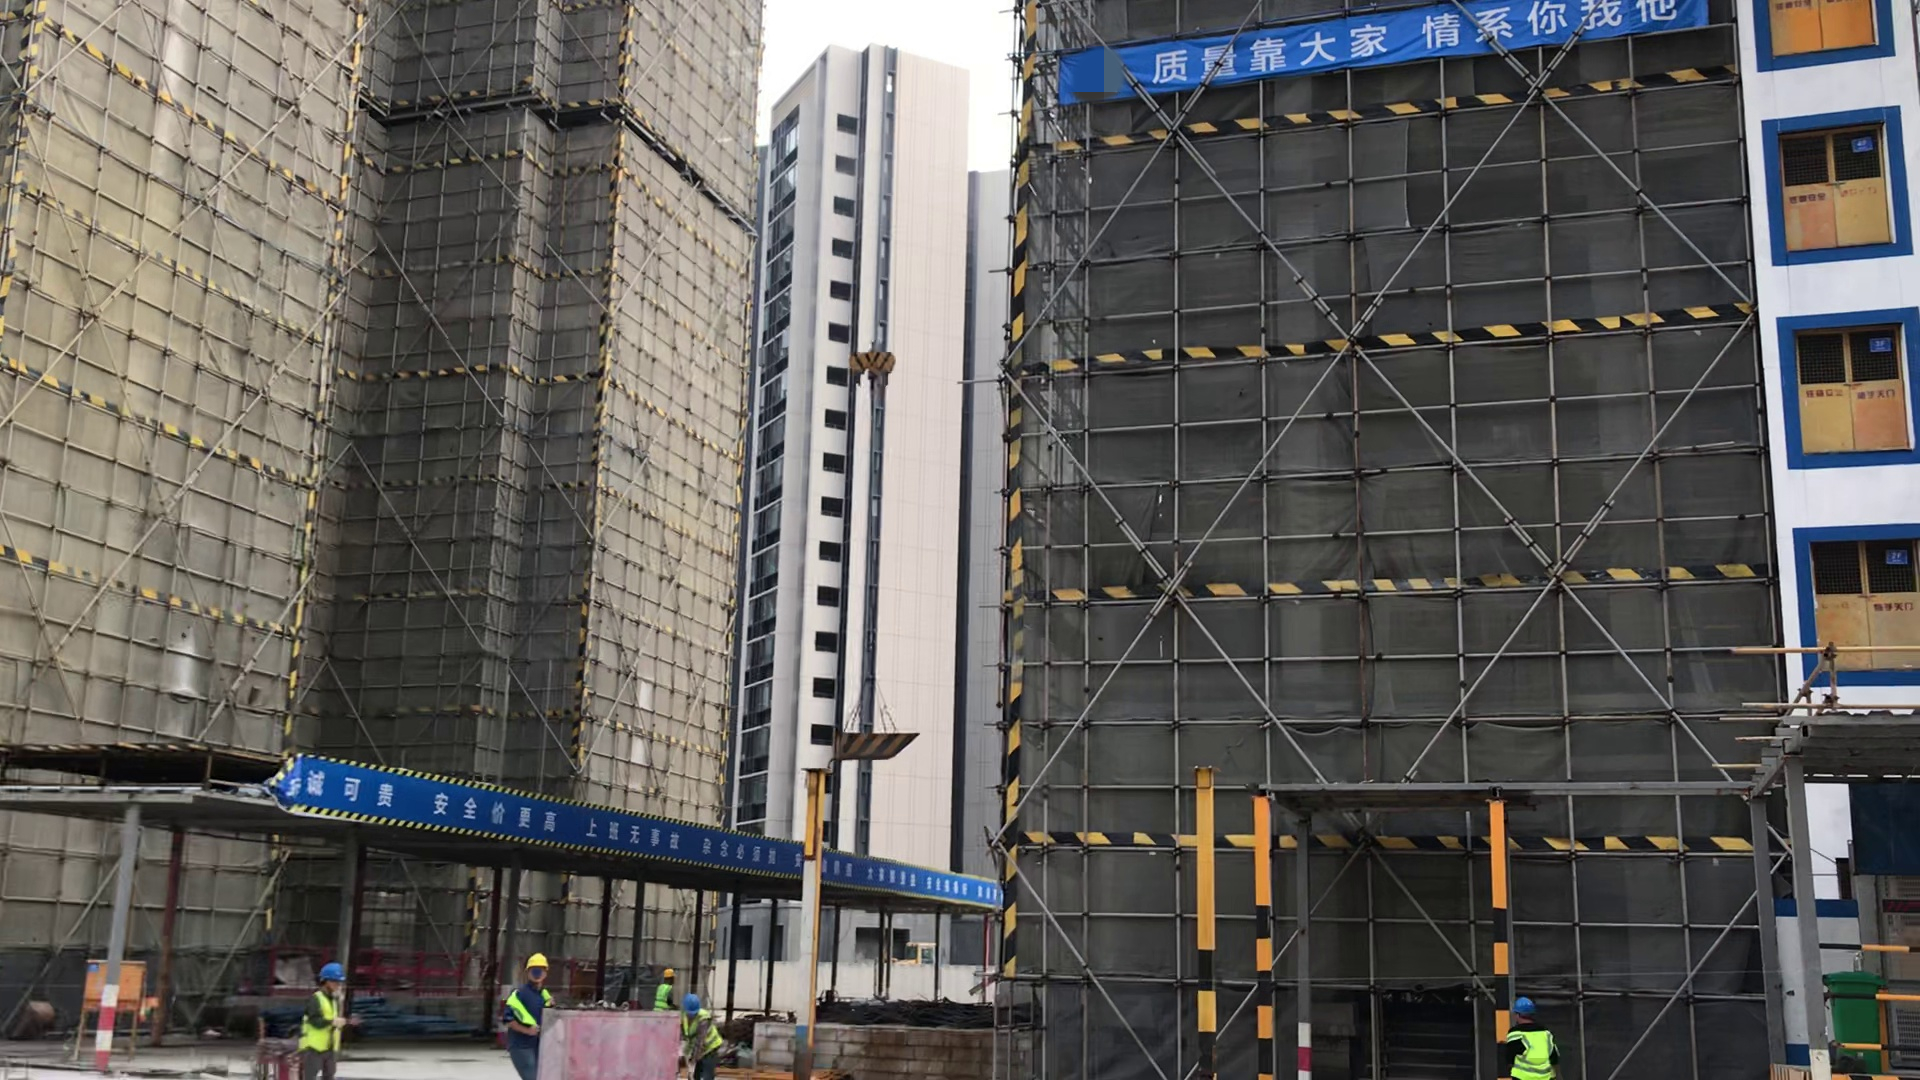ebox: (80, 953, 144, 1015)
fence: (271, 942, 608, 995)
helmet: (1511, 996, 1537, 1016), (521, 952, 551, 969), (682, 993, 702, 1014), (662, 967, 677, 982)
hook: (842, 334, 907, 392)
hopper: (831, 716, 919, 761)
person: (488, 942, 560, 1077), (1475, 987, 1579, 1080), (288, 961, 364, 1080), (675, 991, 726, 1077), (649, 959, 684, 1010)
slogan: (301, 755, 992, 902), (1057, 1, 1705, 97)
vest: (296, 987, 345, 1054), (505, 981, 561, 1032), (1501, 1031, 1556, 1077), (682, 1018, 724, 1059), (654, 983, 674, 1010)
